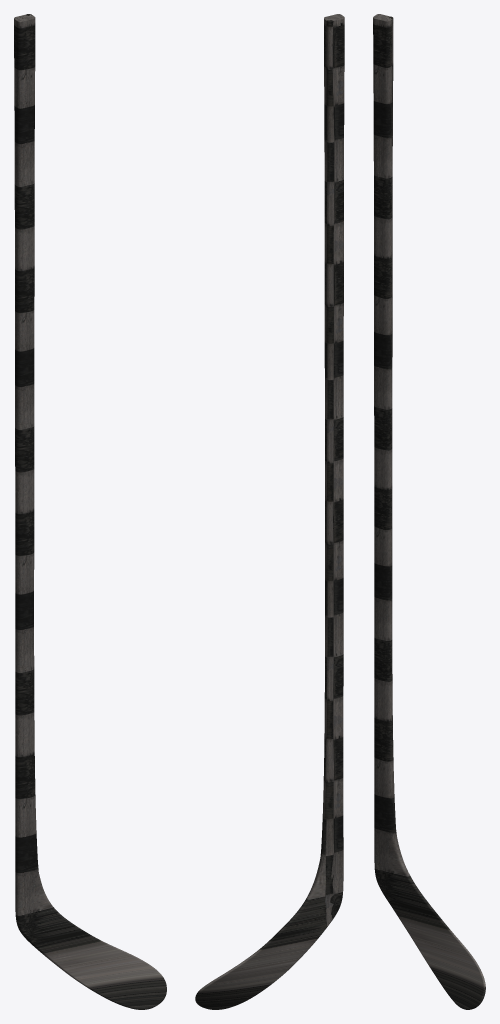
Rendered from P28-SBO.glb.
3 renders of one model, left to right at view 1: azimuth 30°, elevation 25°; view 2: azimuth 210°, elevation 25°; view 3: azimuth 330°, elevation 25°, orthographic. The views are drawn at different scales.
Parts seen in each view (by area): view 1: geometry_0; view 2: geometry_0; view 3: geometry_0.
Part boxes in pixels (x1,y1,x2,y2): geometry_0: [14, 14, 166, 1009]; geometry_0: [195, 14, 344, 1009]; geometry_0: [373, 14, 485, 1009].
Bounding box in the file's own units: 229 × 1650 × 71.56.
Materials: 1 (1 with a texture image).
